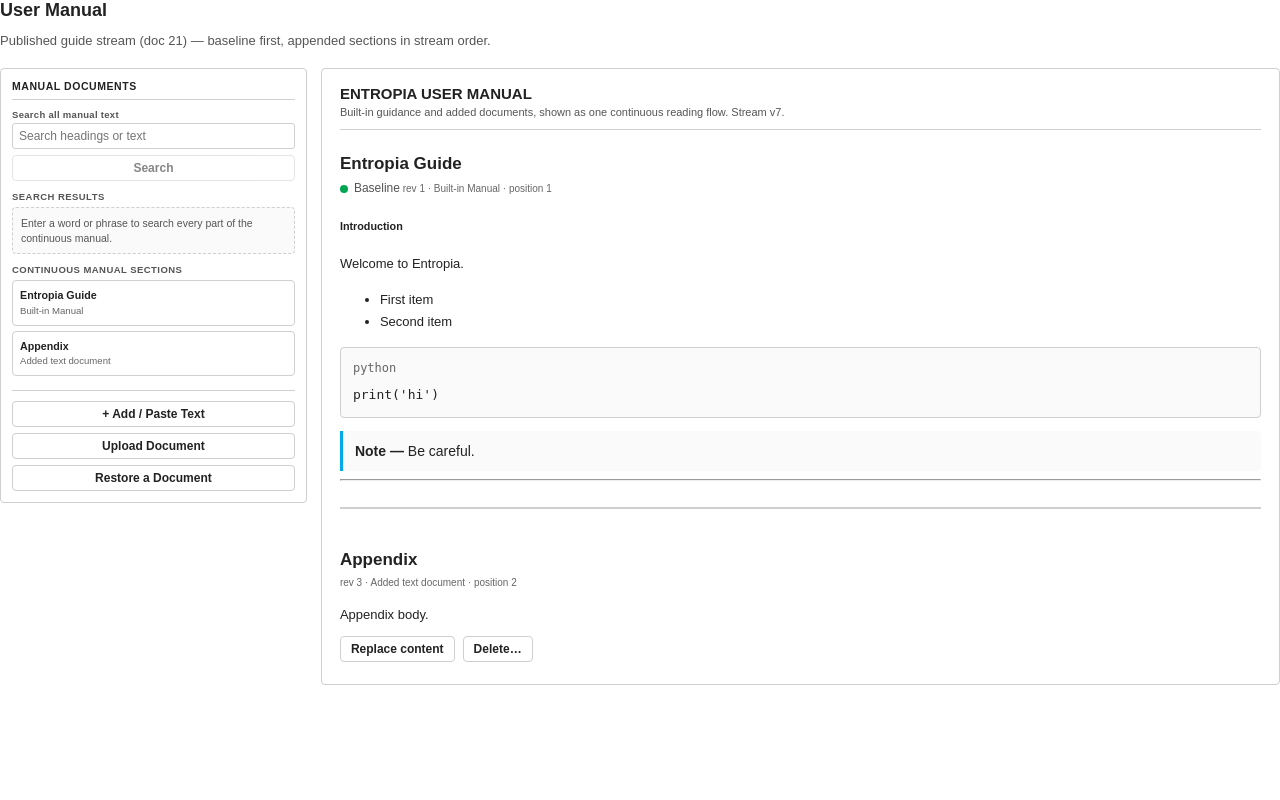
Test: User Manual page › restores via a real document chooser sourced from recoverable Trash entries (F-03)
This screenshot has width=1280, height=800.
Expected: the text "Appendix body." is shown, [340, 607, 429, 622]
Click the button "Restore a Document" at (153, 478), box [12, 465, 295, 491]
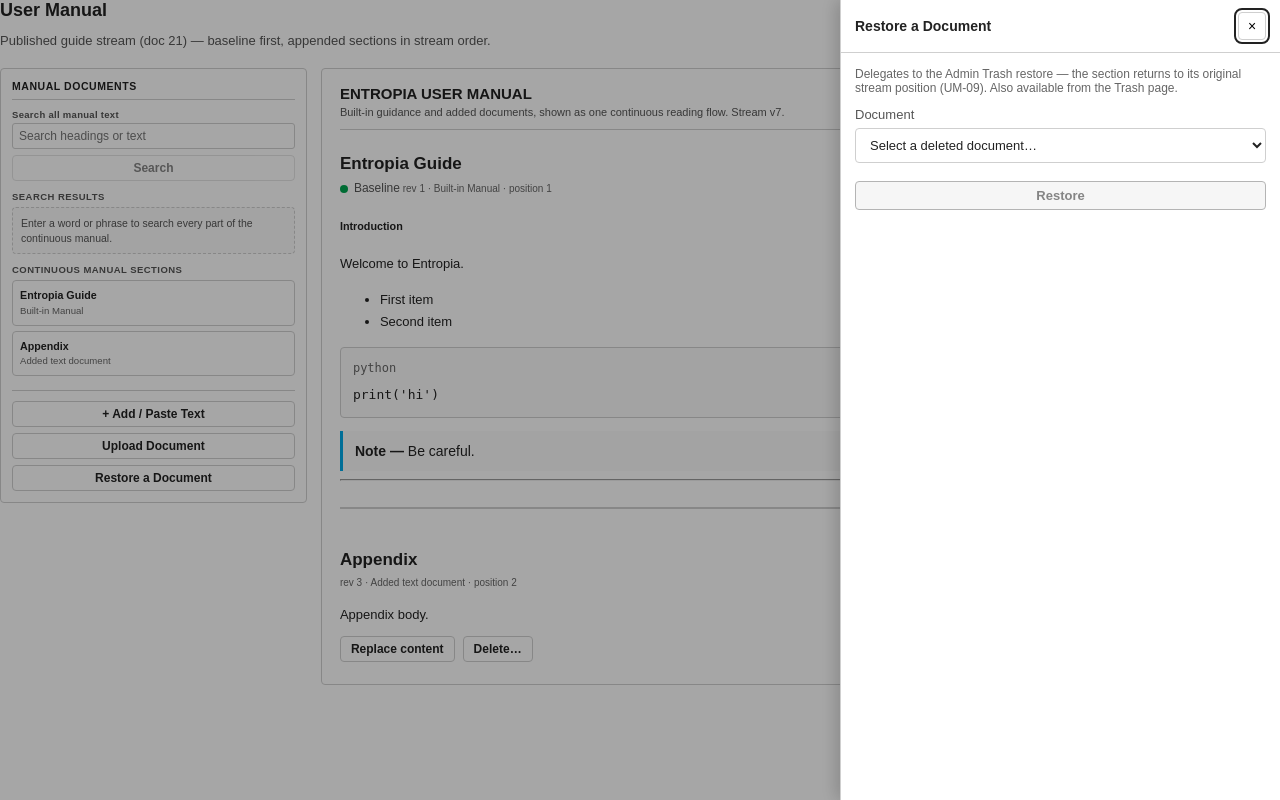
Select "Appendix (mdoc_2)" in the dropdown named "Document to restore" at (1060, 146), box [855, 128, 1266, 163]
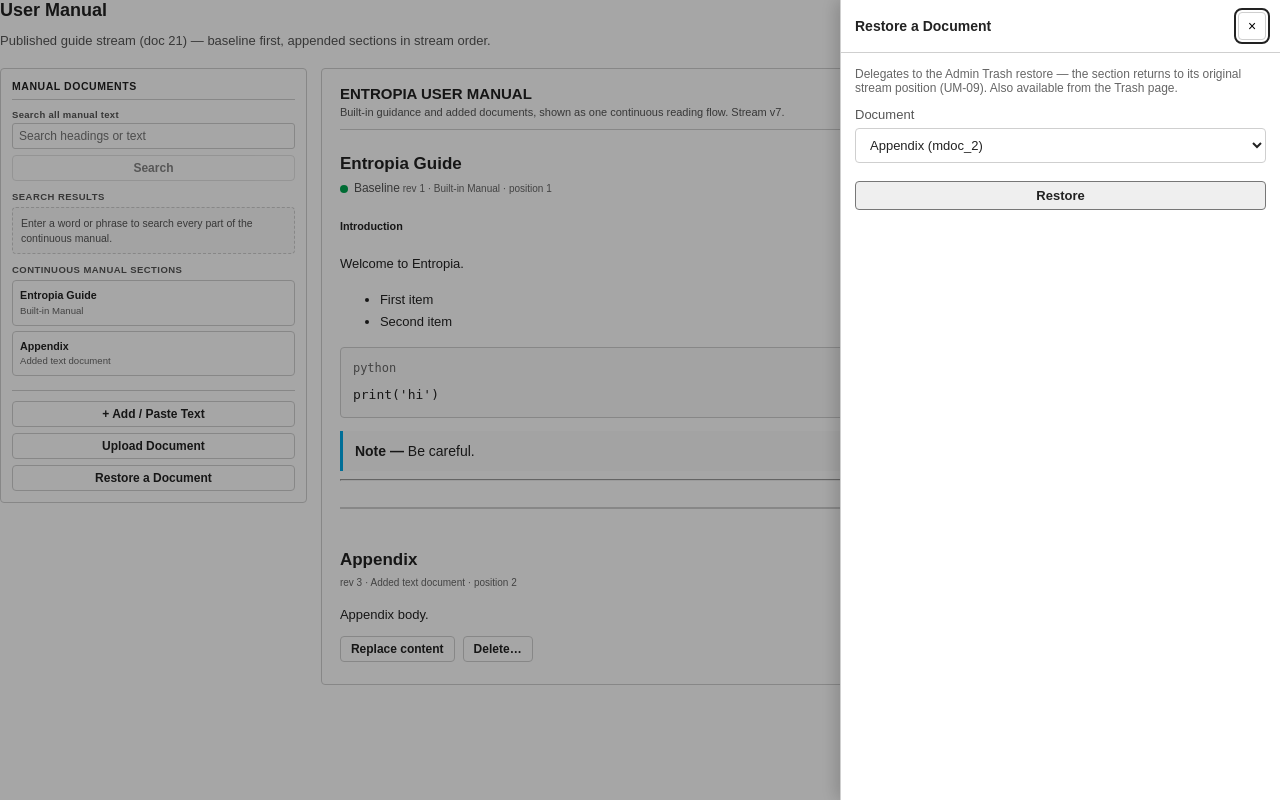
Click the button "Restore" at (1060, 196), box [855, 181, 1266, 210]
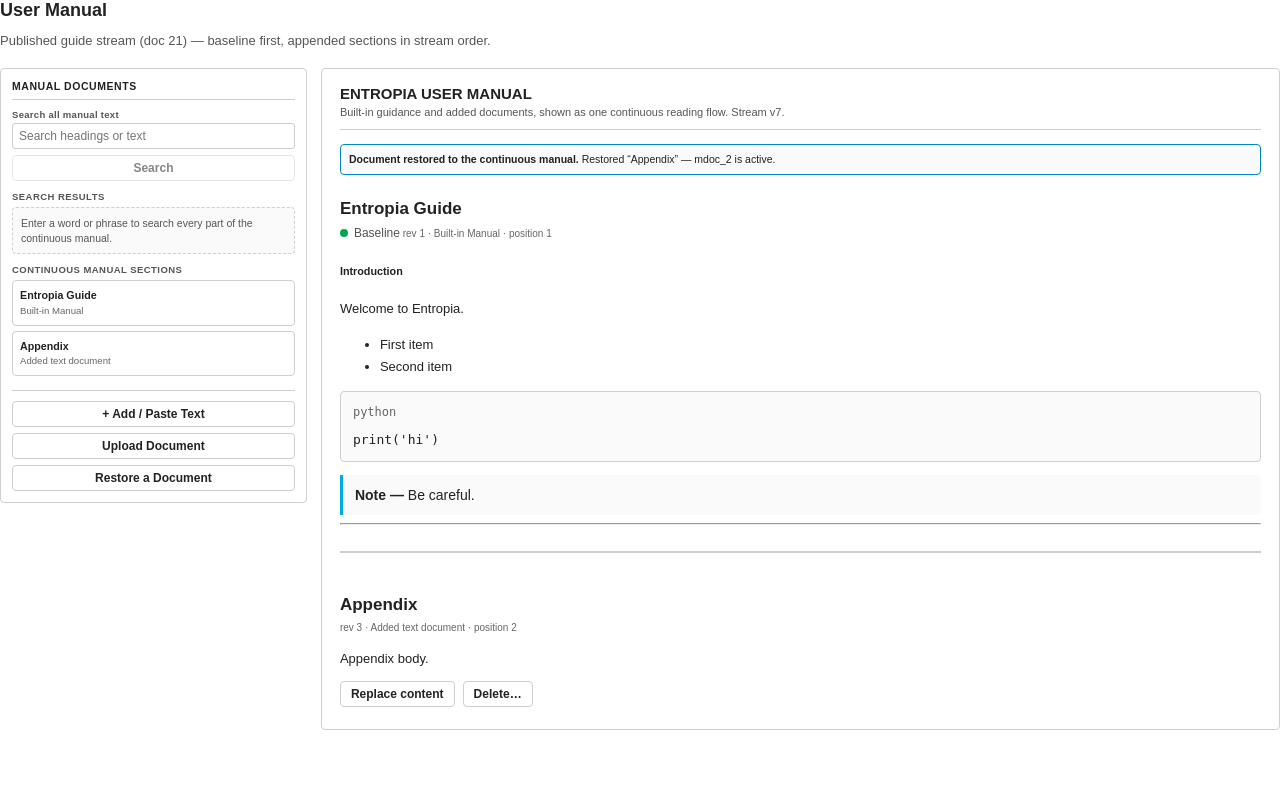
Result: the text "Restored “Appendix” — mdoc_2 is active." is shown at [582, 153, 776, 165]
